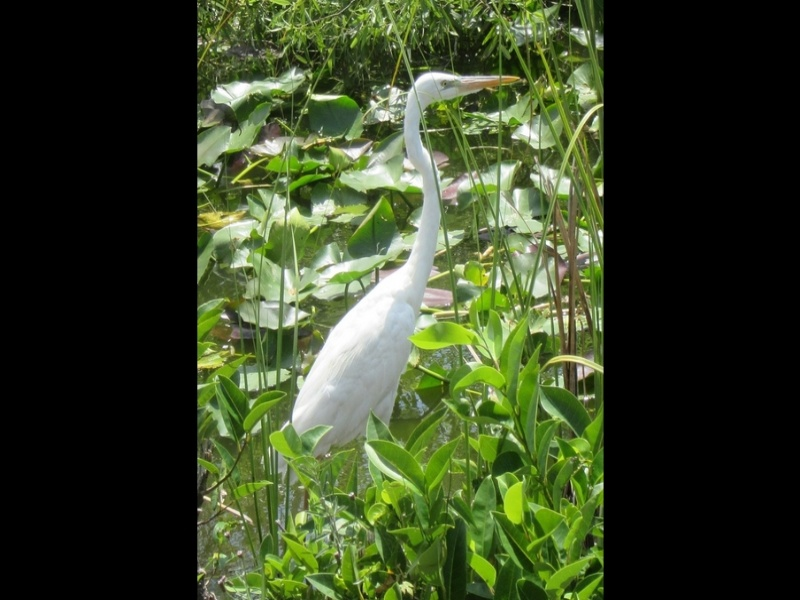heron: (287, 62, 522, 465)
